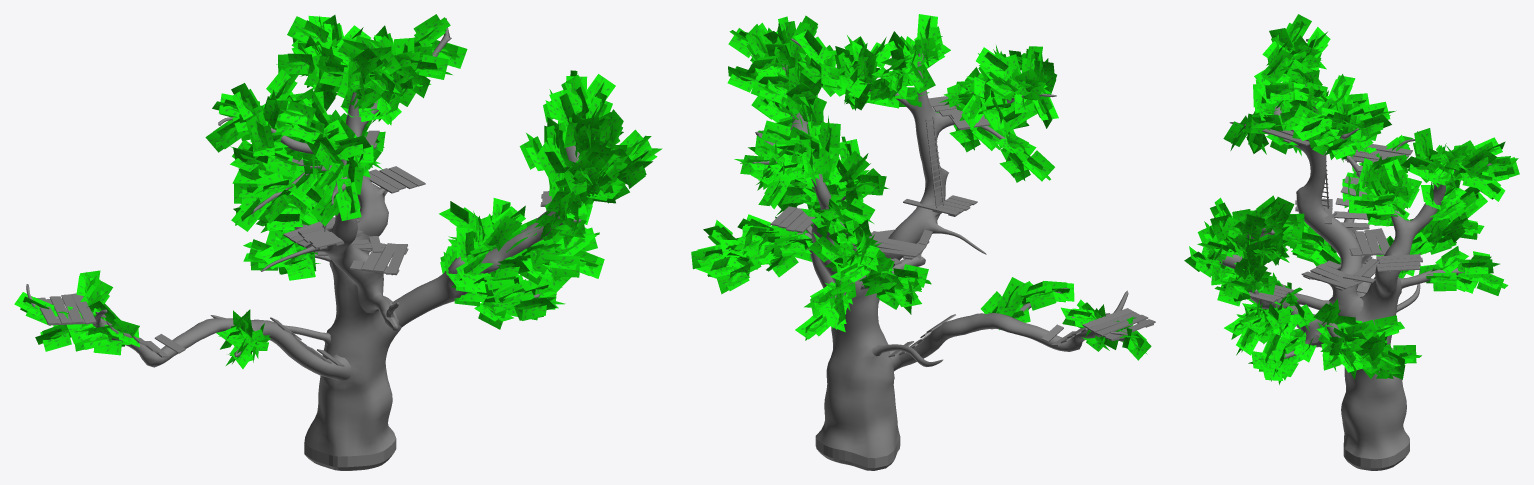
Rendered from ORIGIN.fbx.
3 renders of one model, left to right at view 1: azimuth 30°, elevation 25°; view 2: azimuth 150°, elevation 25°; view 3: azimuth 270°, elevation 25°, orthographic. The views are drawn at different scales.
Visible parts, largest first — view 1: leaves2T1, leaves3T1, trunkT1, leaves1T1, leaves5T1, branch3T1, branch1T1, branch2T1, stairs3T1, leaves4T1, stairs1T1, leaves7T1 (+2 smaller); view 2: leaves3T1, leaves2T1, trunkT1, leaves5T1, branch3T1, leaves1T1, branch1T1, leaves4T1, stairs3T1, leaves6T1, leaves7T1, stairs1T1 (+4 smaller); view 3: leaves2T1, leaves3T1, leaves5T1, trunkT1, branch3T1, leaves1T1, leaves6T1, stairs3T1, leaves4T1, branch5T1, stairs1T1, branch2T1 (+5 smaller).
Part boxes in pixels (box(x1,y1,x2,y2)): leaves2T1: box(439, 70, 662, 329); leaves3T1: box(205, 14, 467, 231); trunkT1: box(304, 233, 401, 470); leaves1T1: box(14, 270, 270, 368); leaves5T1: box(276, 15, 385, 177); branch3T1: box(218, 18, 451, 313); branch1T1: box(26, 284, 351, 380); branch2T1: box(392, 145, 580, 326); stairs3T1: box(283, 130, 408, 275); leaves4T1: box(230, 140, 334, 230); stairs1T1: box(37, 293, 344, 366); leaves7T1: box(243, 228, 320, 280); leaves3T1: box(794, 14, 1058, 182); leaves2T1: box(691, 15, 860, 294); trunkT1: box(815, 264, 900, 470); leaves5T1: box(734, 116, 888, 249); branch3T1: box(790, 38, 1056, 267); leaves1T1: box(981, 277, 1151, 360); branch1T1: box(890, 288, 1128, 371); leaves4T1: box(808, 218, 897, 288); stairs3T1: box(869, 96, 990, 259); leaves6T1: box(795, 279, 856, 340); leaves7T1: box(858, 261, 931, 314); stairs1T1: box(888, 308, 1155, 357); leaves2T1: box(1184, 195, 1421, 384); leaves3T1: box(1223, 14, 1396, 162); leaves5T1: box(1349, 128, 1519, 226); trunkT1: box(1341, 276, 1409, 470); branch3T1: box(1229, 39, 1363, 317); leaves1T1: box(1283, 135, 1413, 266); leaves6T1: box(1419, 246, 1508, 295); stairs3T1: box(1262, 110, 1389, 290); leaves4T1: box(1392, 187, 1487, 254); branch5T1: box(1375, 161, 1491, 292); stairs1T1: box(1334, 144, 1412, 297); branch2T1: box(1216, 228, 1340, 359).
Size of the model in its own units: 1286 by 1061 by 825.
2 materials, 1 textured.
